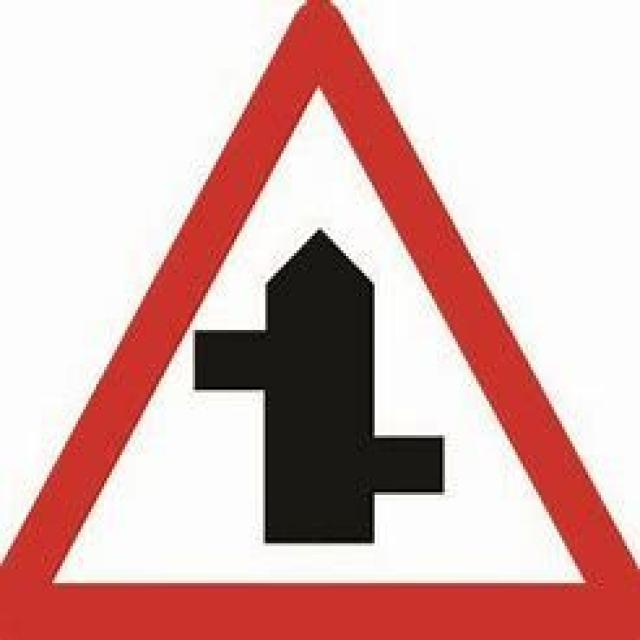speed_limit_60: (0, 0, 637, 637)
